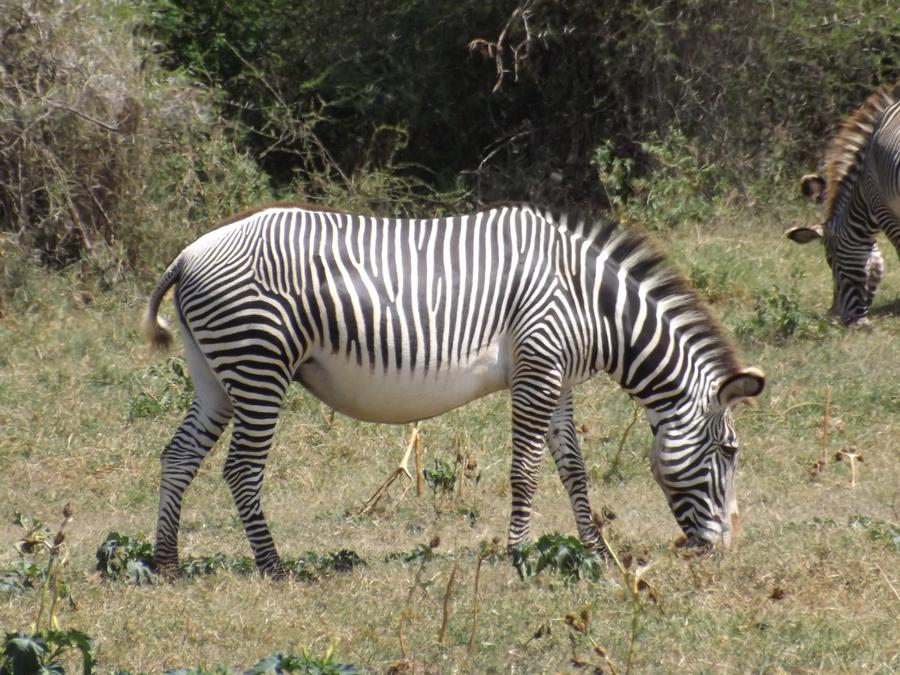zebra_grevys: (168, 188, 580, 391)
